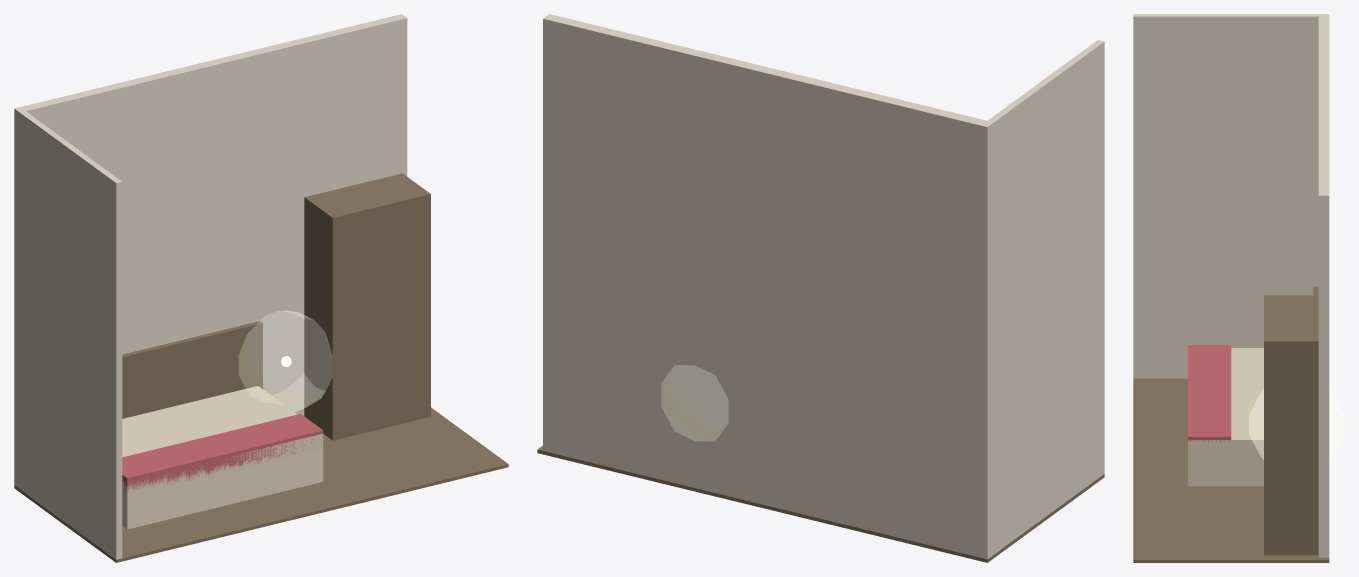
The model's file is city_proxy_home_bedroom.glb.
3 views of the same model, side by side, from view 1: azimuth 30°, elevation 25°; view 2: azimuth 150°, elevation 25°; view 3: azimuth 270°, elevation 25° (orthographic). The views are drawn at different scales.
Visible parts, largest first — view 1: CityProxyHomeBedroom_Back, CityProxyHomeBedroom_Side, CityProxyHomeBedroom_Wardrobe, CityProxyHomeBedroom_Floor, CityProxyHomeBedroom_Bed, CityProxyHomeBedroom_Headboard, CityProxyHomeBedroom_Lamp_Halo, CityProxyHomeBedroom_Throw; view 2: CityProxyHomeBedroom_Back, CityProxyHomeBedroom_Side, CityProxyHomeBedroom_Lamp_Halo, CityProxyHomeBedroom_Floor; view 3: CityProxyHomeBedroom_Side, CityProxyHomeBedroom_Floor, CityProxyHomeBedroom_Wardrobe, CityProxyHomeBedroom_Bed, CityProxyHomeBedroom_Back, CityProxyHomeBedroom_Throw, CityProxyHomeBedroom_Lamp_Halo.
Boxes of the visible parts, bbox=[...] form: CityProxyHomeBedroom_Back: bbox=[19, 14, 407, 415]; CityProxyHomeBedroom_Side: bbox=[14, 107, 122, 559]; CityProxyHomeBedroom_Wardrobe: bbox=[304, 173, 430, 440]; CityProxyHomeBedroom_Floor: bbox=[14, 407, 508, 562]; CityProxyHomeBedroom_Bed: bbox=[122, 386, 323, 529]; CityProxyHomeBedroom_Headboard: bbox=[122, 321, 262, 418]; CityProxyHomeBedroom_Lamp_Halo: bbox=[239, 311, 331, 411]; CityProxyHomeBedroom_Throw: bbox=[122, 414, 323, 490]; CityProxyHomeBedroom_Back: bbox=[543, 14, 987, 557]; CityProxyHomeBedroom_Side: bbox=[981, 40, 1104, 559]; CityProxyHomeBedroom_Lamp_Halo: bbox=[662, 365, 727, 440]; CityProxyHomeBedroom_Floor: bbox=[537, 446, 1104, 562]; CityProxyHomeBedroom_Side: bbox=[1133, 14, 1329, 378]; CityProxyHomeBedroom_Floor: bbox=[1133, 378, 1329, 562]; CityProxyHomeBedroom_Wardrobe: bbox=[1264, 295, 1318, 555]; CityProxyHomeBedroom_Bed: bbox=[1188, 348, 1263, 486]; CityProxyHomeBedroom_Back: bbox=[1318, 16, 1329, 557]; CityProxyHomeBedroom_Throw: bbox=[1188, 345, 1231, 442]; CityProxyHomeBedroom_Lamp_Halo: bbox=[1249, 389, 1344, 459].
Size of the model in its own units: 4 by 3.7 by 1.94.
